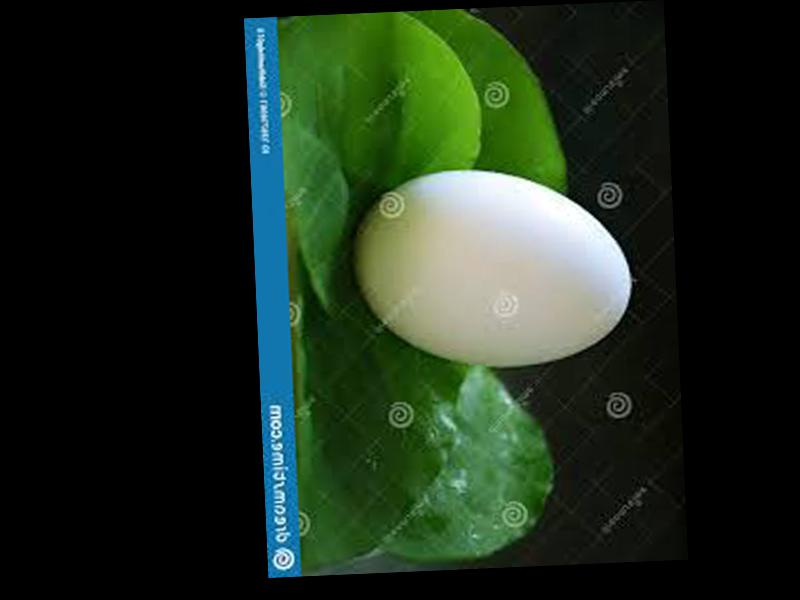Eggs: (351, 162, 635, 373)
